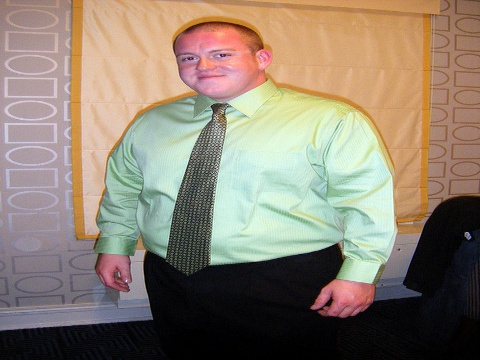hand: (308, 279, 376, 318), (93, 254, 133, 294)
